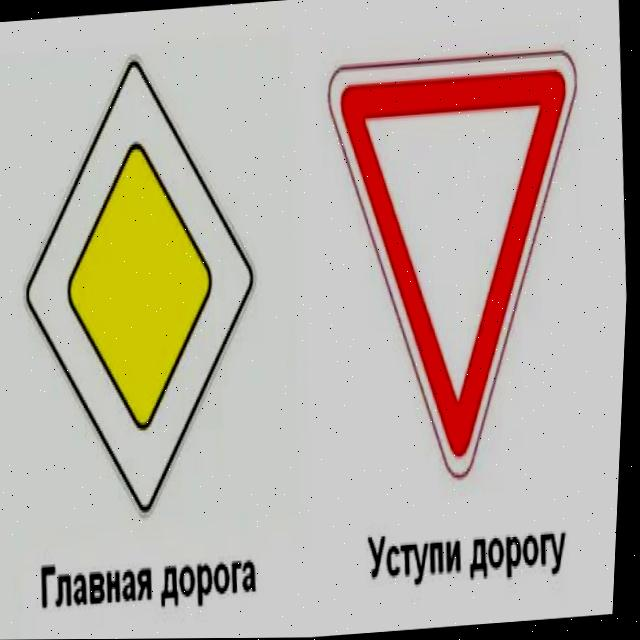signs: (0, 42, 285, 529)
